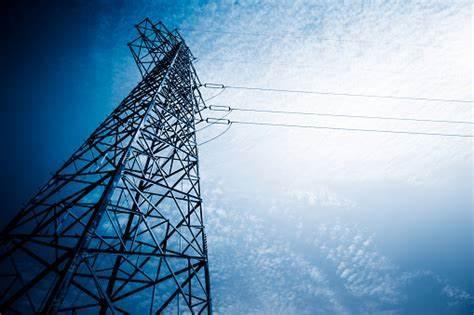power_tower: (0, 23, 217, 315)
